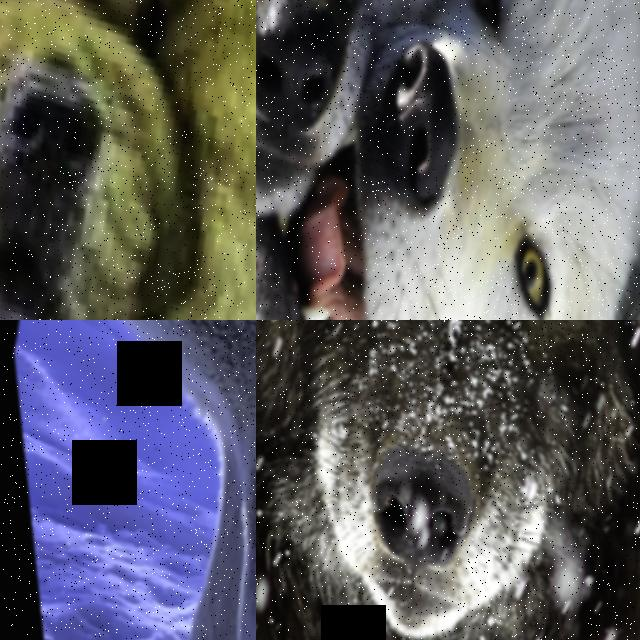dog: (0, 0, 256, 320)
wolf: (256, 0, 640, 320), (256, 0, 640, 320), (256, 320, 640, 640), (0, 320, 256, 640), (399, 0, 640, 320)
